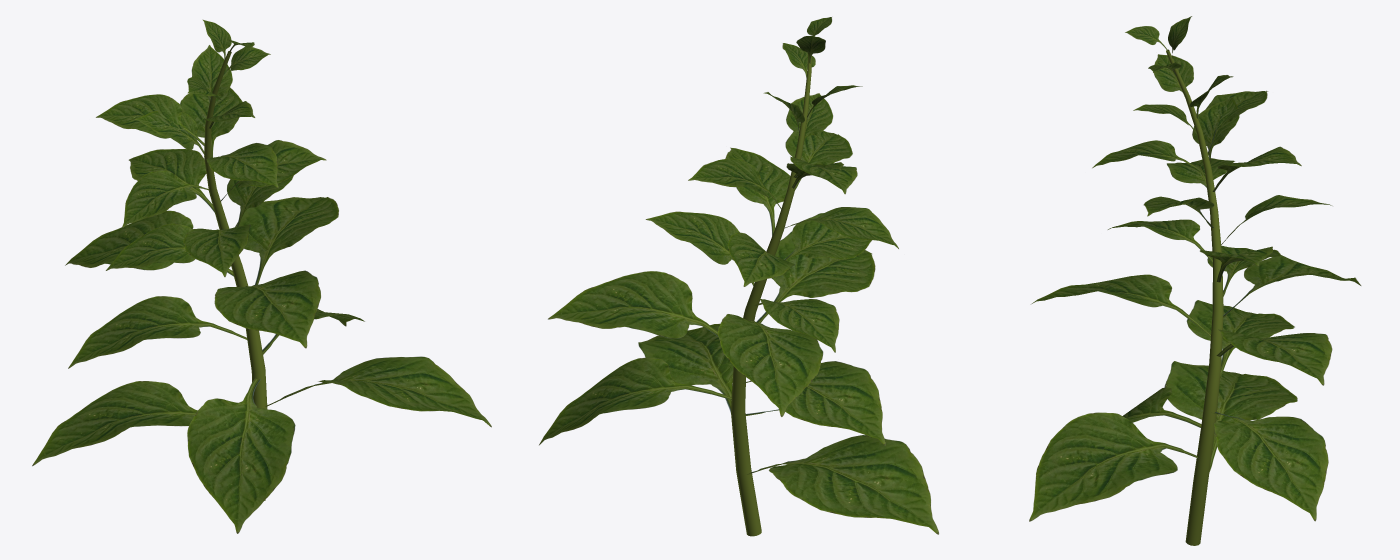
The model's file is bellpepper_step4-transformed.glb.
The picture shows the model from 3 angles, left to right: view 1: azimuth 30°, elevation 25°; view 2: azimuth 150°, elevation 25°; view 3: azimuth 270°, elevation 25°; orthographic projection. The views are drawn at different scales.
Parts seen in each view (by area): view 1: result3; view 2: result3; view 3: result3.
Boxes of the visible parts, box(x1,y1,x2,y2) form: result3: box(32, 19, 491, 533); result3: box(539, 17, 938, 536); result3: box(1029, 16, 1361, 545).
Size of the model in its own units: 8.44 by 10.14 by 7.12.
Materials: 2 (2 with a texture image).
